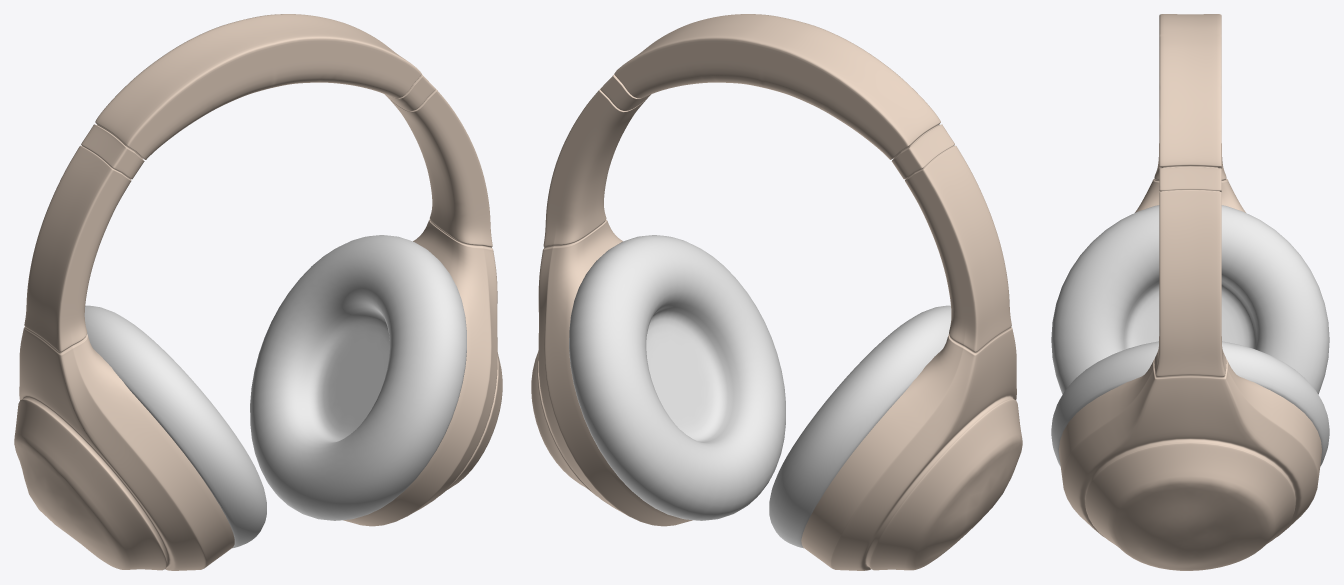
File: headphonesTEST.glb
3 renders of one model, left to right at view 1: azimuth 30°, elevation 25°; view 2: azimuth 150°, elevation 25°; view 3: azimuth 270°, elevation 25°, orthographic. The views are drawn at different scales.
Parts seen in each view (by area): view 1: headphone, Circle; view 2: headphone, Circle; view 3: headphone, Circle.
Boxes of the visible parts, x1,y1,x2,y2 form: headphone: (14,14,502,570); Circle: (84,235,466,548); headphone: (531,14,1022,570); Circle: (569,235,951,548); headphone: (1059,14,1321,570); Circle: (1051,205,1329,466).
Bounding box in the file's own units: 3.71 × 3.97 × 2.09.
